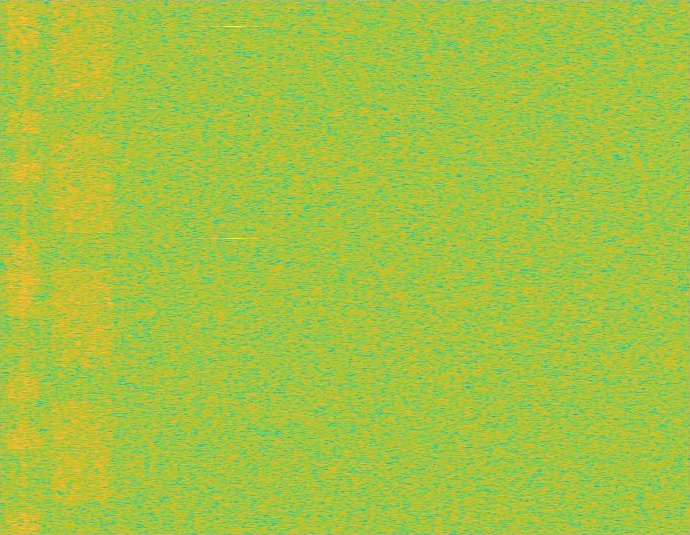5G: (47, 0, 116, 534)
DSSS: (20, 0, 28, 534)
LTE: (6, 0, 41, 534)
Radar: (228, 0, 242, 534)
